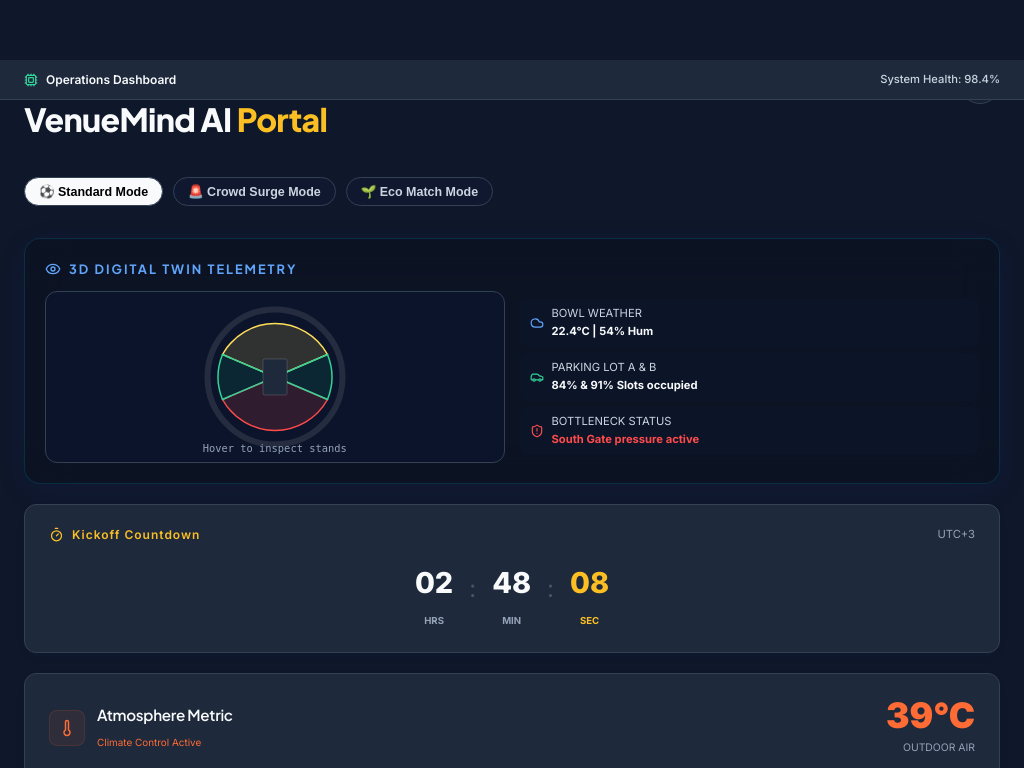
Test: Dashboard Component › applies simulation presets correctly
// Standard preset click
What coordinates should you click on to do the following:
click the button "⚽ Standard Mode"
I would click on:
 (94, 191)
Its box is top-left (24, 177), bottom-right (163, 206).
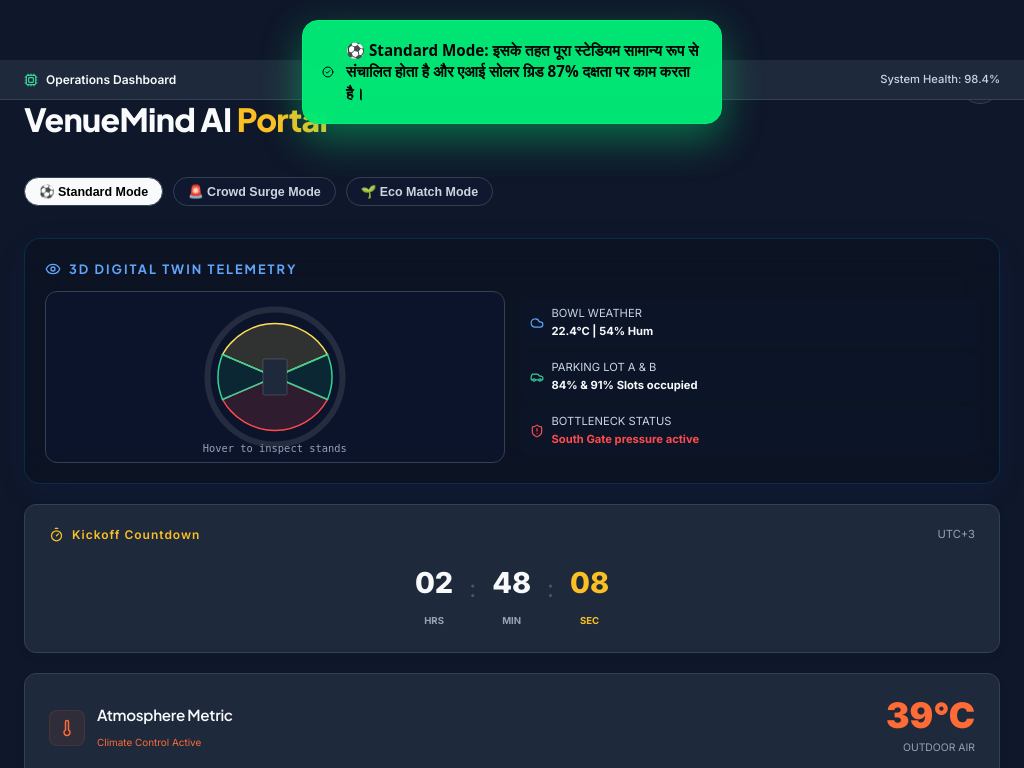
Expected: the text "एआई सोलर ग्रिड" is shown, top-left (346, 40), bottom-right (698, 103)
// Crowd Surge preset click
What coordinates should you click on to do the following:
click the button "🚨 Crowd Surge Mode"
I would click on:
 (254, 191)
Its box is top-left (173, 177), bottom-right (336, 206).
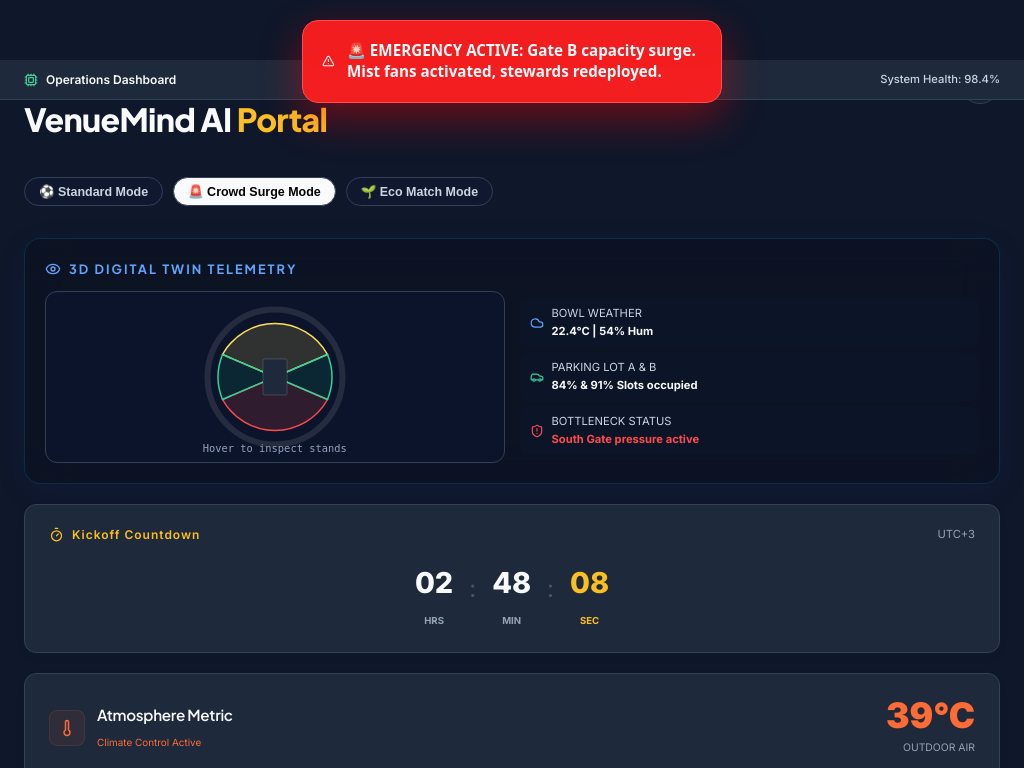
Expected: the text "EMERGENCY ACTIVE" is shown, top-left (347, 40), bottom-right (696, 82)
// Eco Match preset click
What coordinates should you click on to do the following:
click the button "🌱 Eco Match Mode"
I would click on:
 (419, 191)
Its box is top-left (346, 177), bottom-right (493, 206).
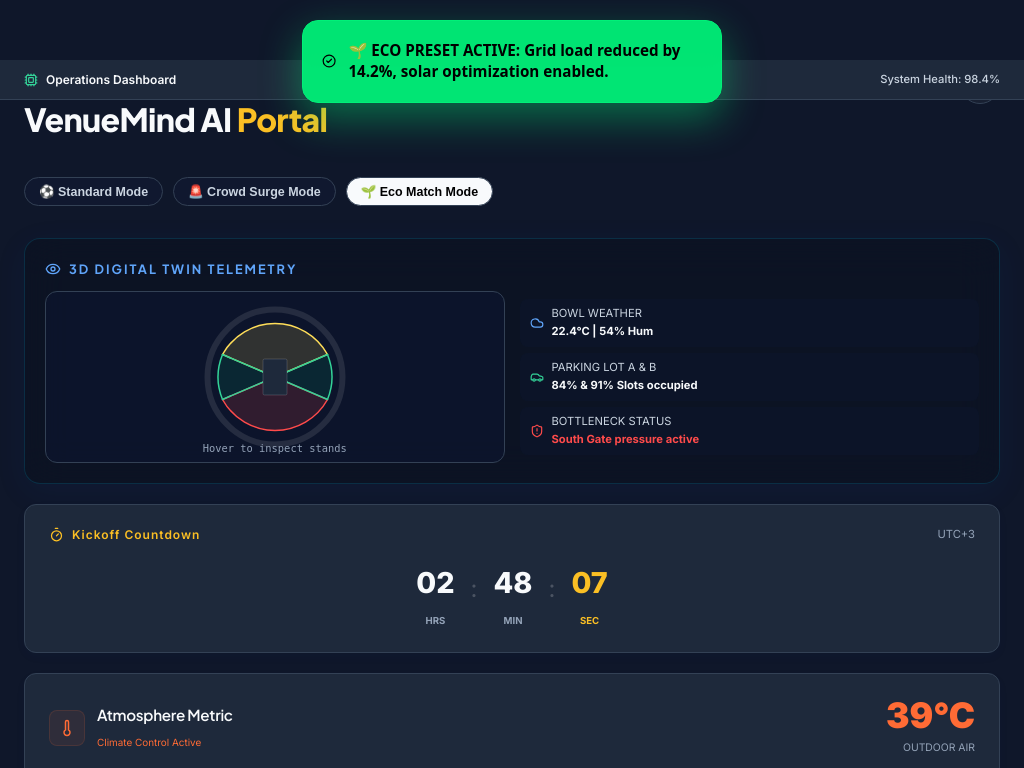
Expected: the text "ECO PRESET ACTIVE" is shown, top-left (348, 40), bottom-right (680, 82)
